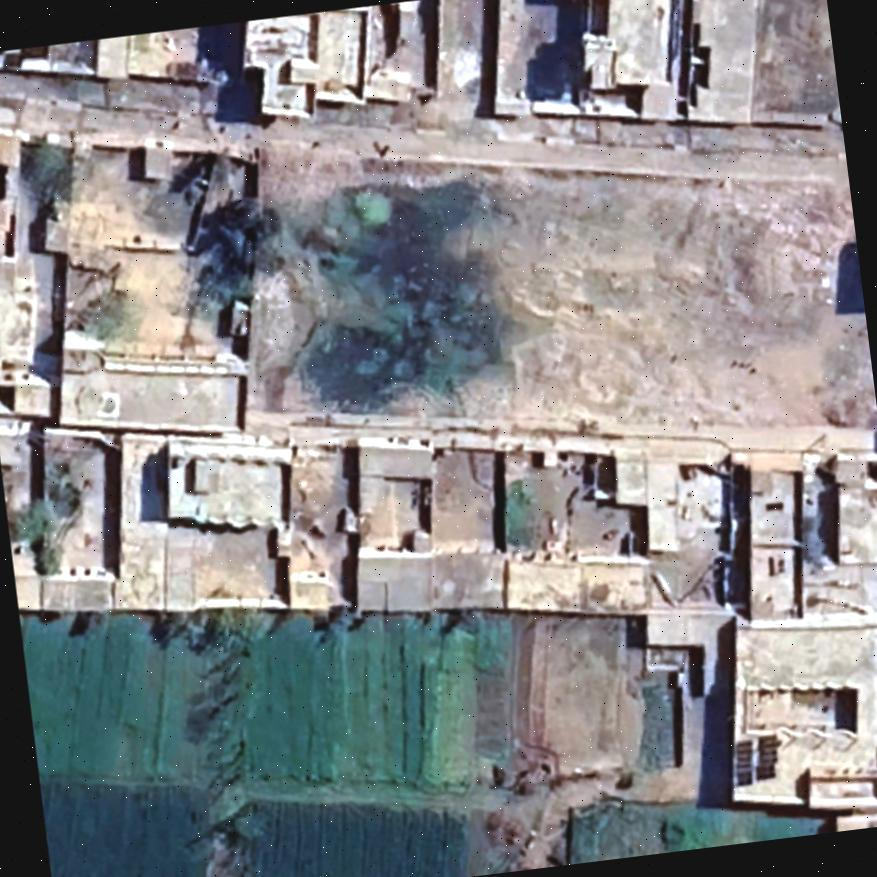Solarpanel: (724, 730, 785, 790)
